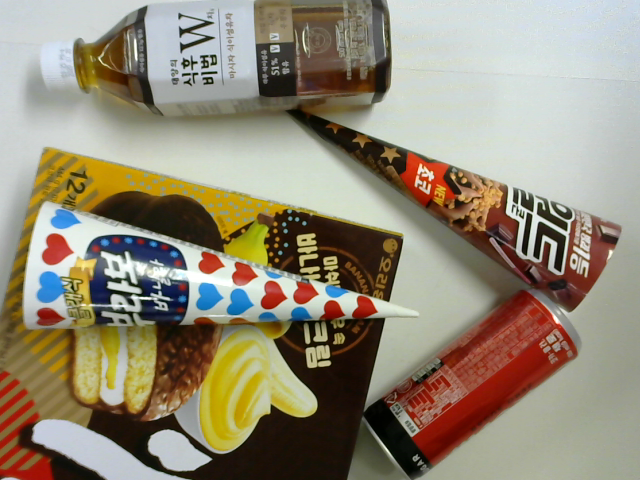Bravo_Cone_(Banila)_CVS: (23, 199, 425, 332)
Choco_Pie_Banana: (1, 149, 400, 479)
Coca_Cola_Zero_Can_250ml: (359, 290, 586, 480)
Post-meal_recipe_W_tea_500ml: (39, 1, 397, 118)
World_Cone_Choco: (282, 98, 624, 308)
